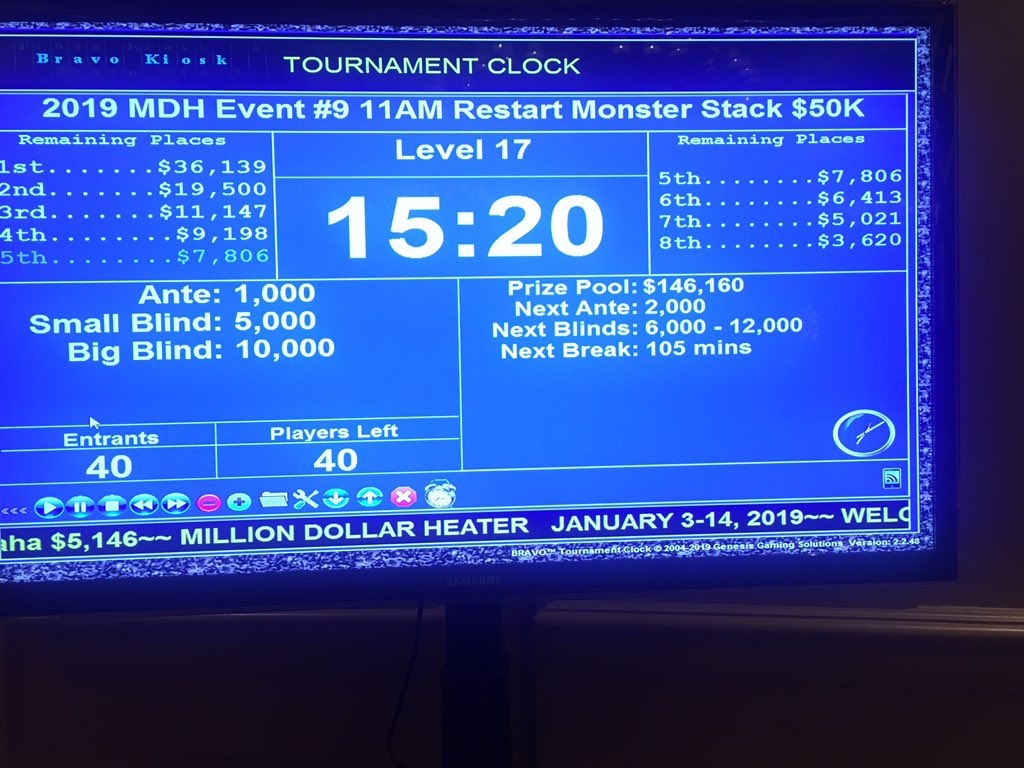PlayersLeft: (211, 415, 465, 477)
Remaining: (646, 127, 911, 277)
TournamentClock: (1, 86, 919, 493)
